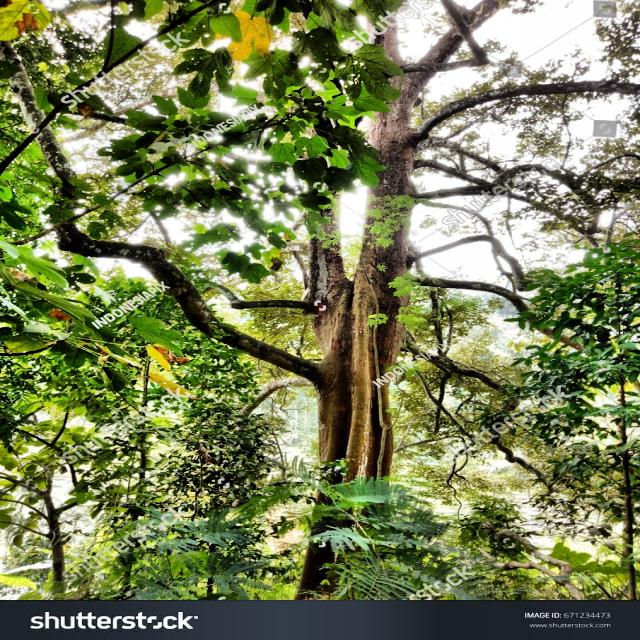arvore: (250, 67, 430, 598)
